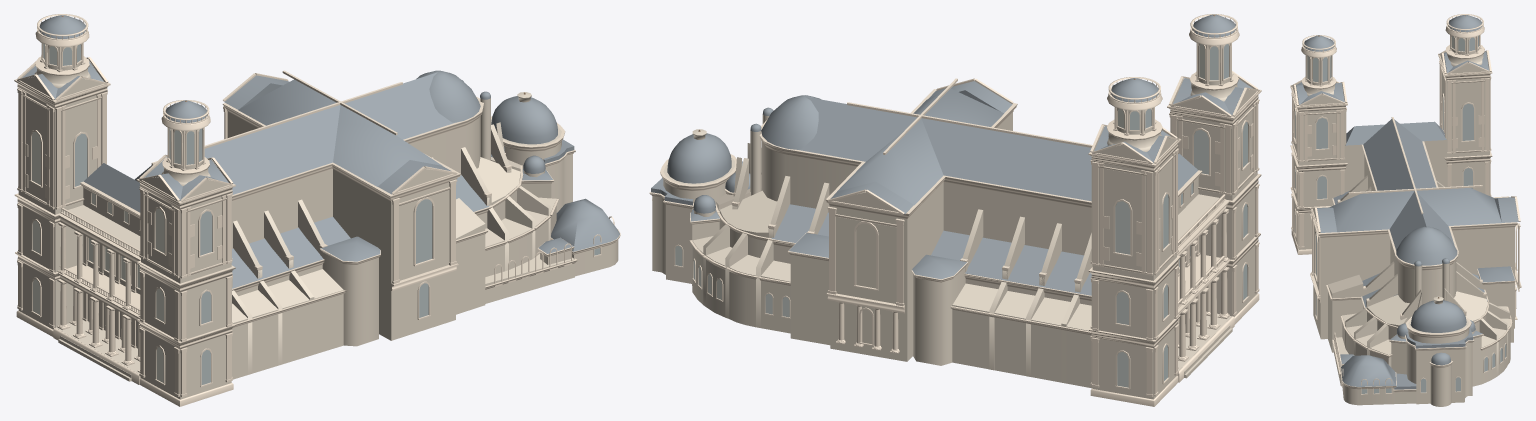
The model's file is detail.glb.
3 renders of one model, left to right at view 1: azimuth 30°, elevation 25°; view 2: azimuth 150°, elevation 25°; view 3: azimuth 270°, elevation 25°, orthographic. The views are drawn at different scales.
Parts seen in each view (by area): view 1: stone, trim, roof, window; view 2: stone, trim, roof, window; view 3: stone, roof, trim, window.
Part boxes in pixels (box(x1,y1,x2,y2)): stone: box(18, 45, 618, 399); trim: box(14, 14, 620, 406); roof: box(22, 15, 619, 288); window: box(32, 43, 600, 384); stone: box(652, 43, 1257, 399); trim: box(649, 14, 1261, 406); roof: box(651, 14, 1252, 295); window: box(675, 44, 1247, 387); stone: box(1292, 37, 1514, 406); roof: box(1296, 15, 1518, 389); trim: box(1290, 14, 1521, 394); window: box(1295, 35, 1506, 393).
Size of the model in its own units: 126 by 70.3 by 67.05.
